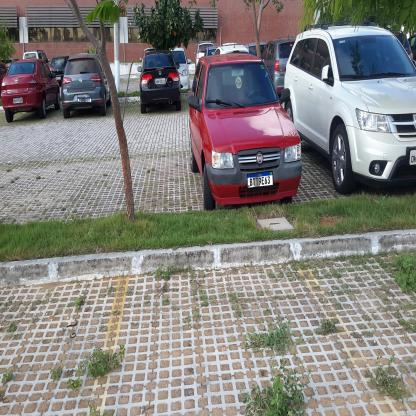PlacaM: (247, 171, 273, 189), (78, 98, 92, 102)
